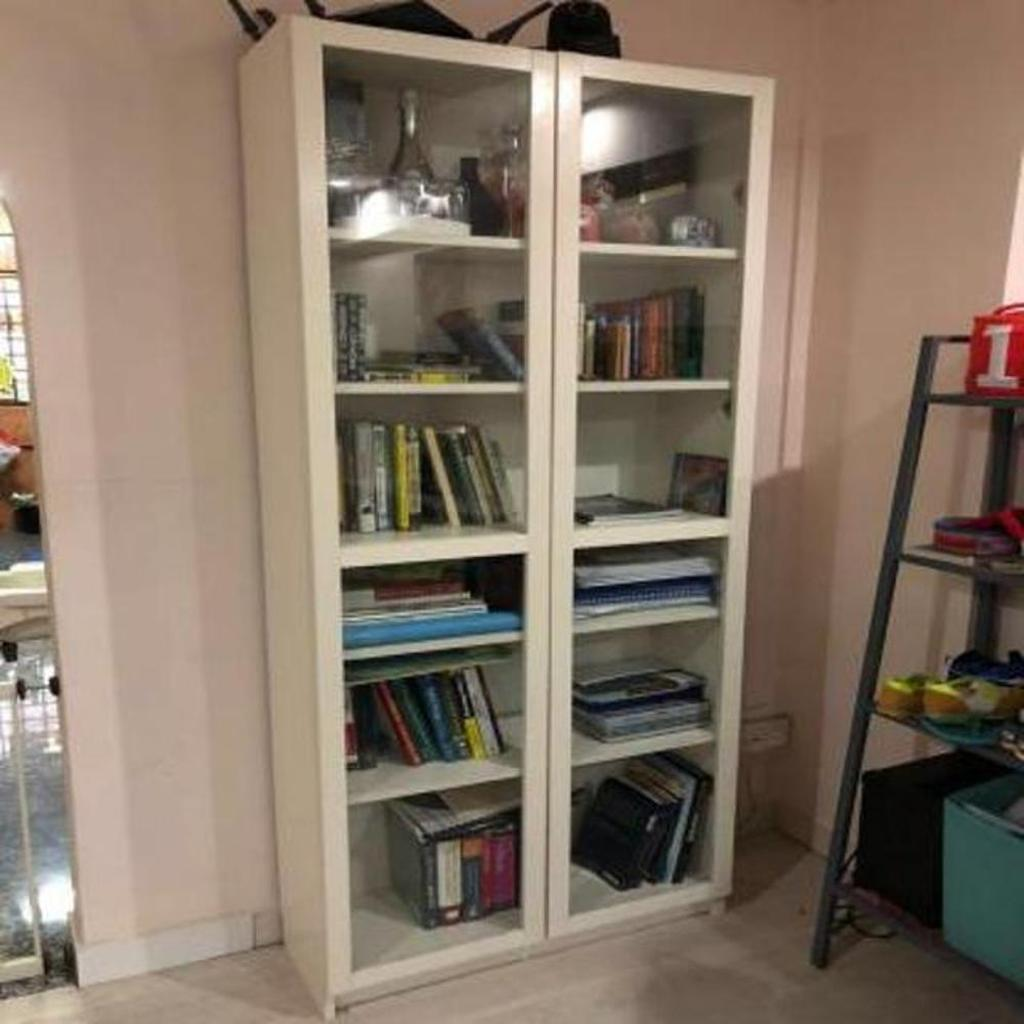lamp: (235, 9, 782, 1023)
